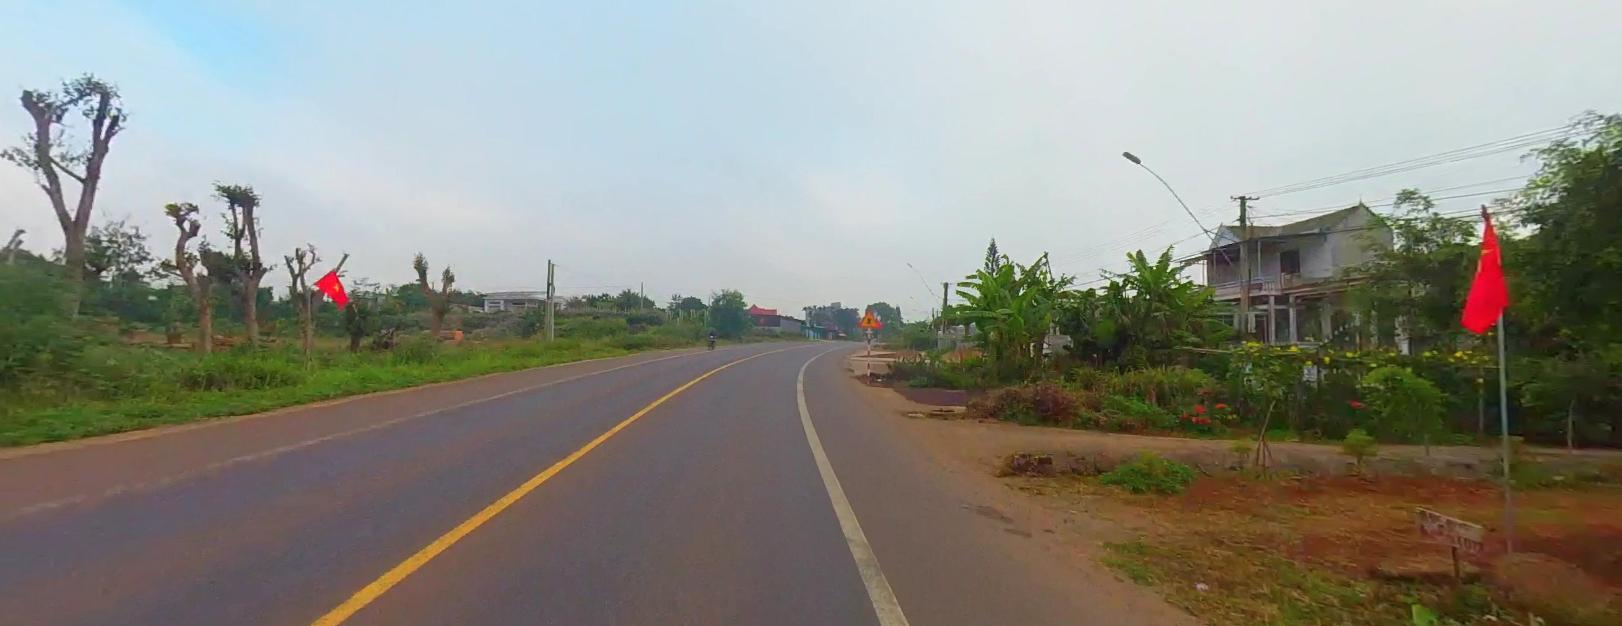Nguy hiem: (857, 308, 879, 325)
